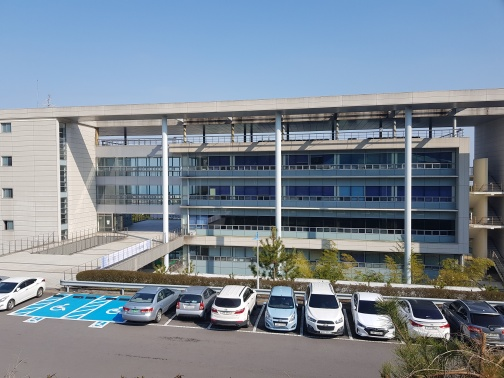Engineering College Building 4: (3, 108, 496, 268), (180, 134, 474, 264), (10, 122, 187, 259)
